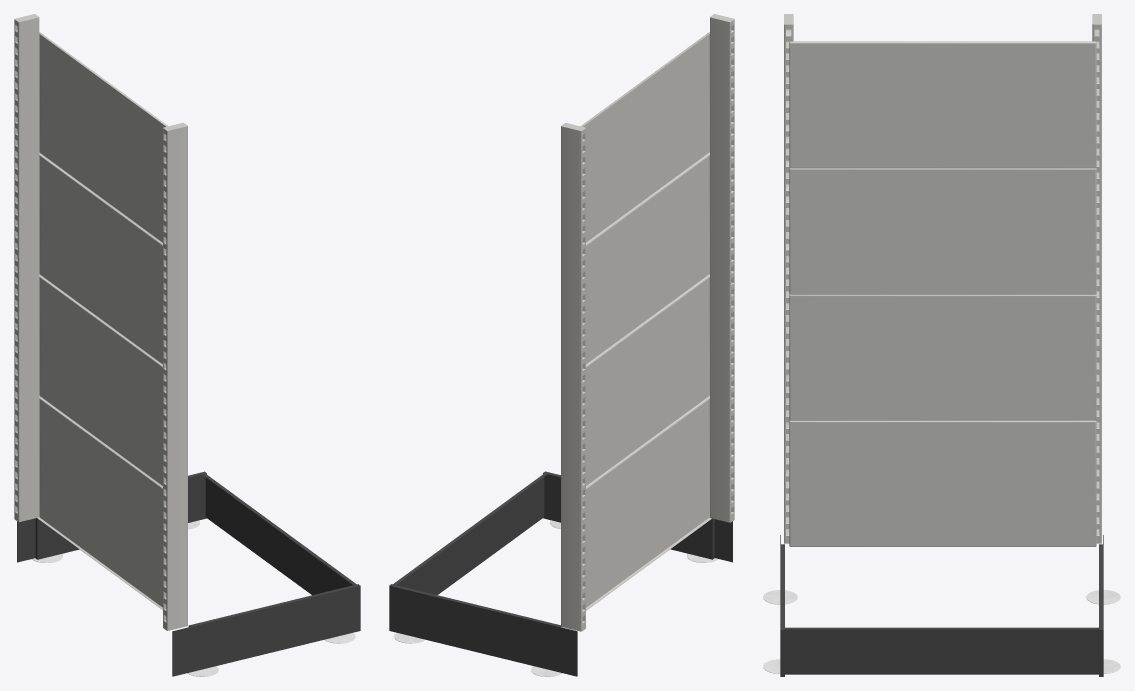
Rendered from ShelvesBase07.fbx.
3 views of the same model, side by side, from view 1: azimuth 30°, elevation 25°; view 2: azimuth 150°, elevation 25°; view 3: azimuth 270°, elevation 25° (orthographic). The views are drawn at different scales.
Visible parts, largest first — view 1: ShelvesBase07; view 2: ShelvesBase07; view 3: ShelvesBase07.
Boxes of the visible parts, x1=… form: ShelvesBase07: x1=14, y1=14, x2=360, y2=676; ShelvesBase07: x1=389, y1=14, x2=734, y2=676; ShelvesBase07: x1=763, y1=14, x2=1120, y2=676.
Size of the model in its own units: 73.23 by 114 by 200.
3 materials, 1 textured.
